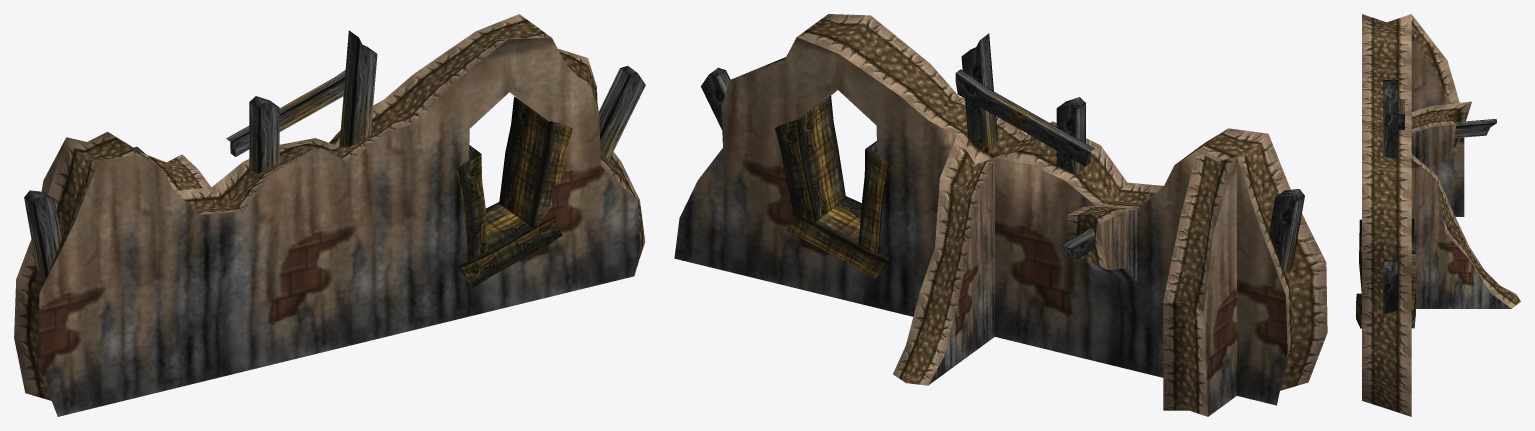
Rendered from CB_BRKN_BUILDING02.obj.
3 renders of one model, left to right at view 1: azimuth 30°, elevation 25°; view 2: azimuth 150°, elevation 25°; view 3: azimuth 270°, elevation 25°, orthographic. The views are drawn at different scales.
Visible parts, largest first — view 1: brkn_building02; view 2: brkn_building02; view 3: brkn_building02.
Part boxes in pixels (x1=…): brkn_building02: x1=14, y1=14, x2=645, y2=416; brkn_building02: x1=674, y1=14, x2=1327, y2=416; brkn_building02: x1=1356, y1=14, x2=1520, y2=416.
Size of the model in its own units: 1553 by 679 by 455.
